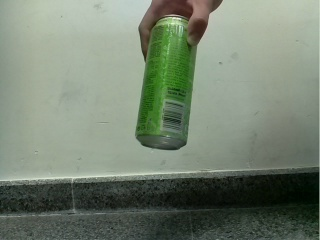botella plastico: (134, 14, 197, 151)
